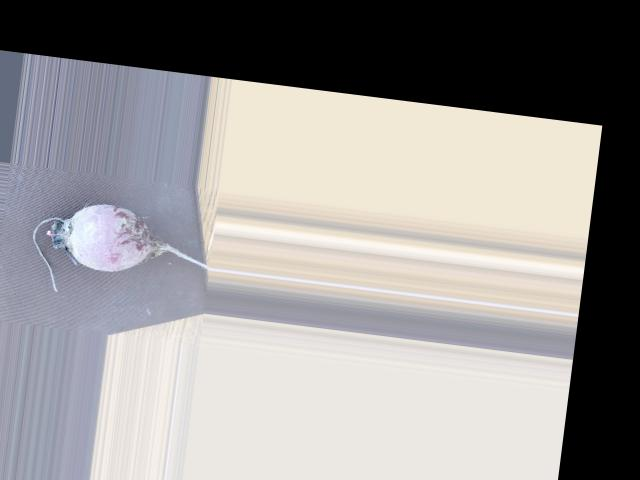beet: (26, 194, 217, 310)
